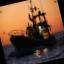fishing boat: (1, 0, 60, 57)
